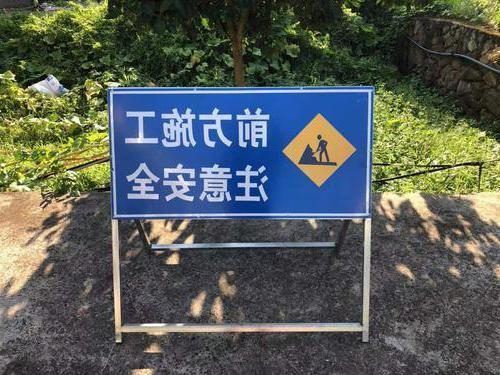sign: (110, 87, 371, 217)
